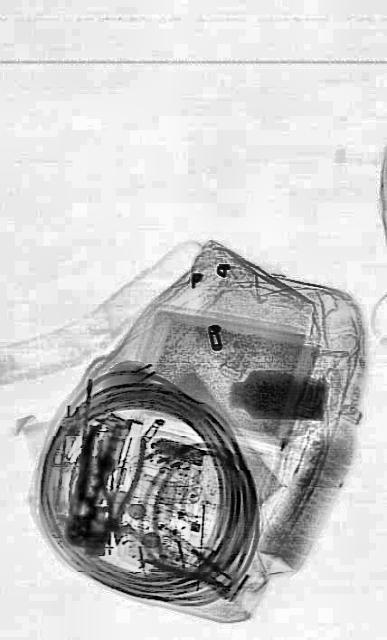Pliers: (90, 429, 146, 545)
